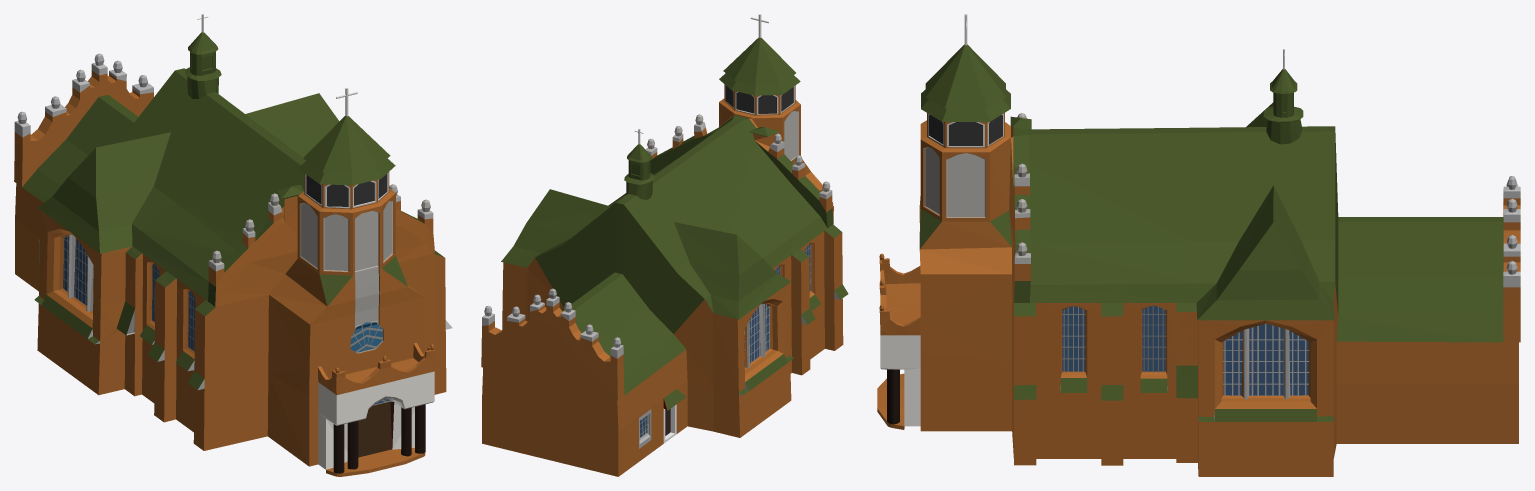
File: Model_Kosciol.fbx
3 views of the same model, side by side, from view 1: azimuth 30°, elevation 25°; view 2: azimuth 150°, elevation 25°; view 3: azimuth 270°, elevation 25° (orthographic). The views are drawn at different scales.
Parts seen in each view (by area): view 1: Plane; view 2: Plane; view 3: Plane.
Boxes of the visible parts, left/top/right/bottom form: Plane: left=14, top=14, right=452, bottom=476; Plane: left=481, top=14, right=848, bottom=476; Plane: left=877, top=14, right=1520, bottom=476.
Size of the model in its own units: 3033 by 2024 by 1760.
